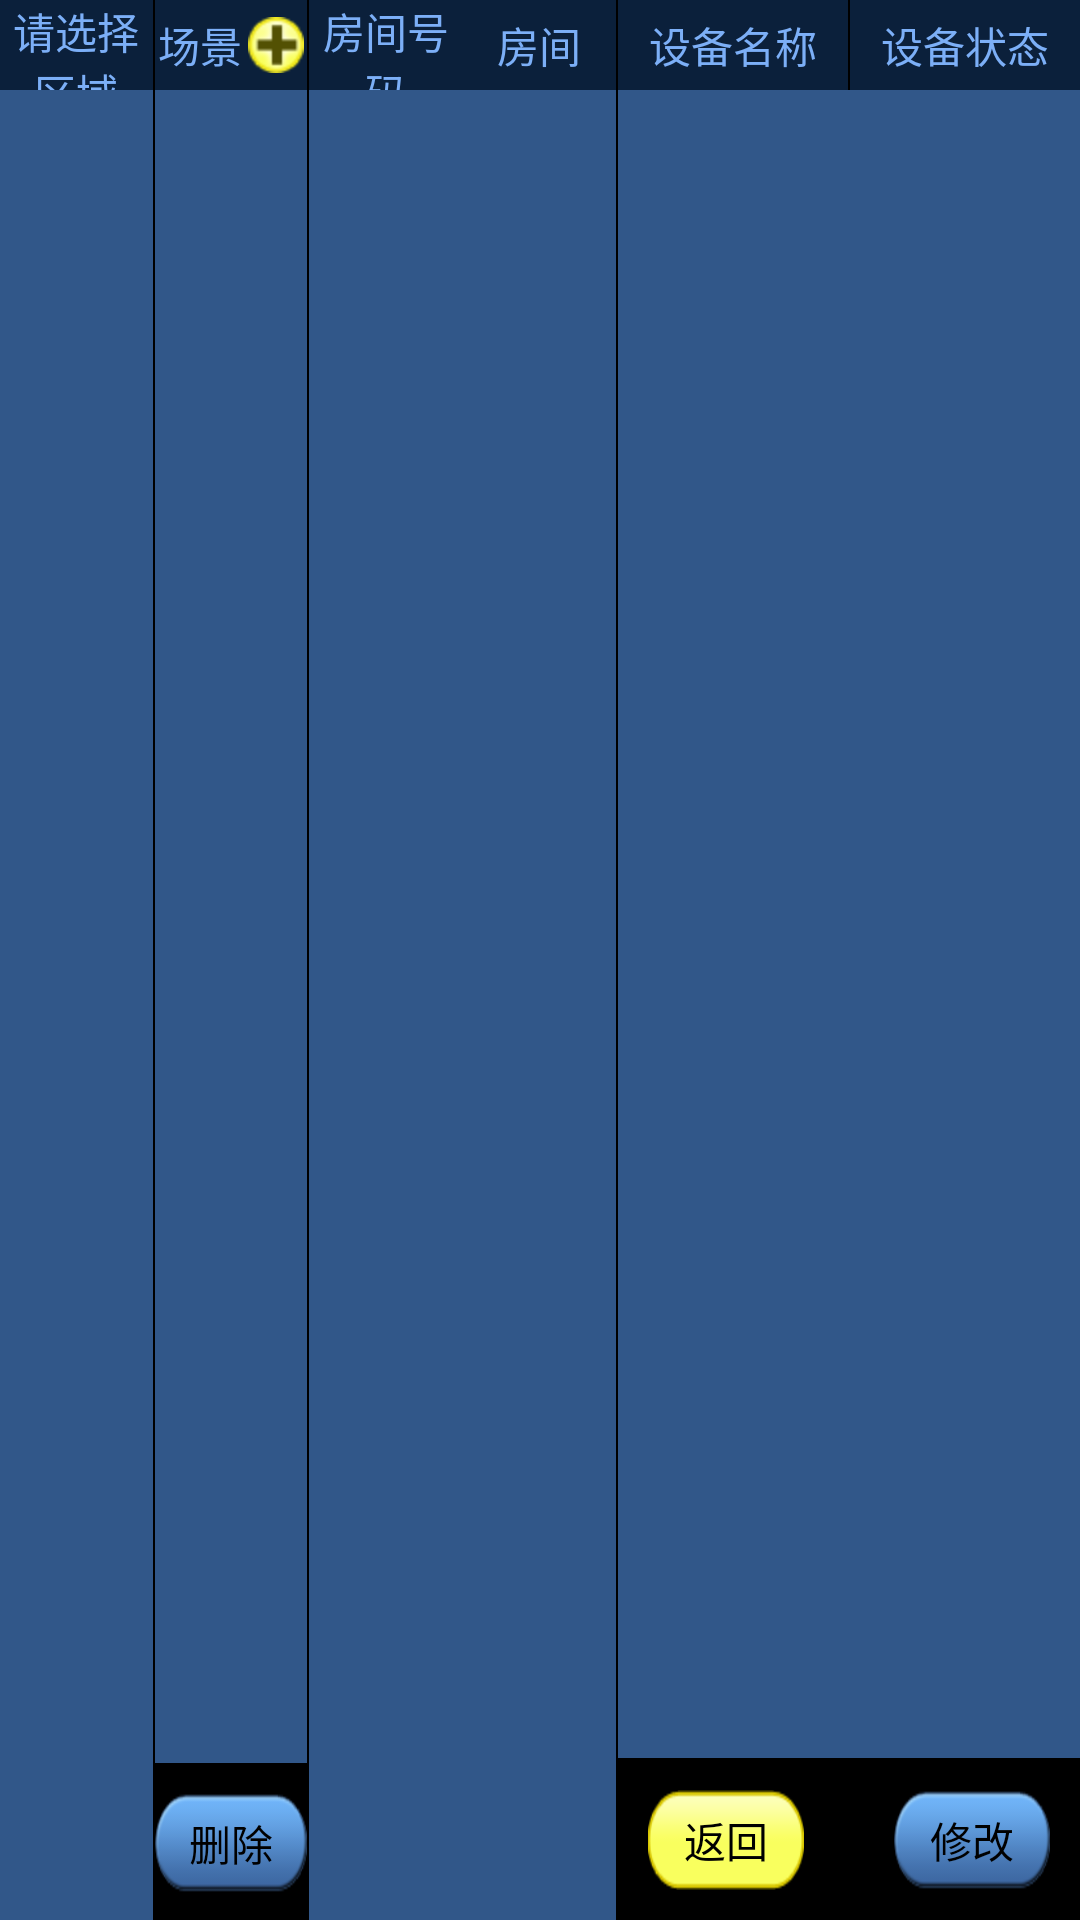

Point at icon controls on the screen. Image size 1080px×1920px, points as (x=x, y=y).
add: (x=276, y=45)
